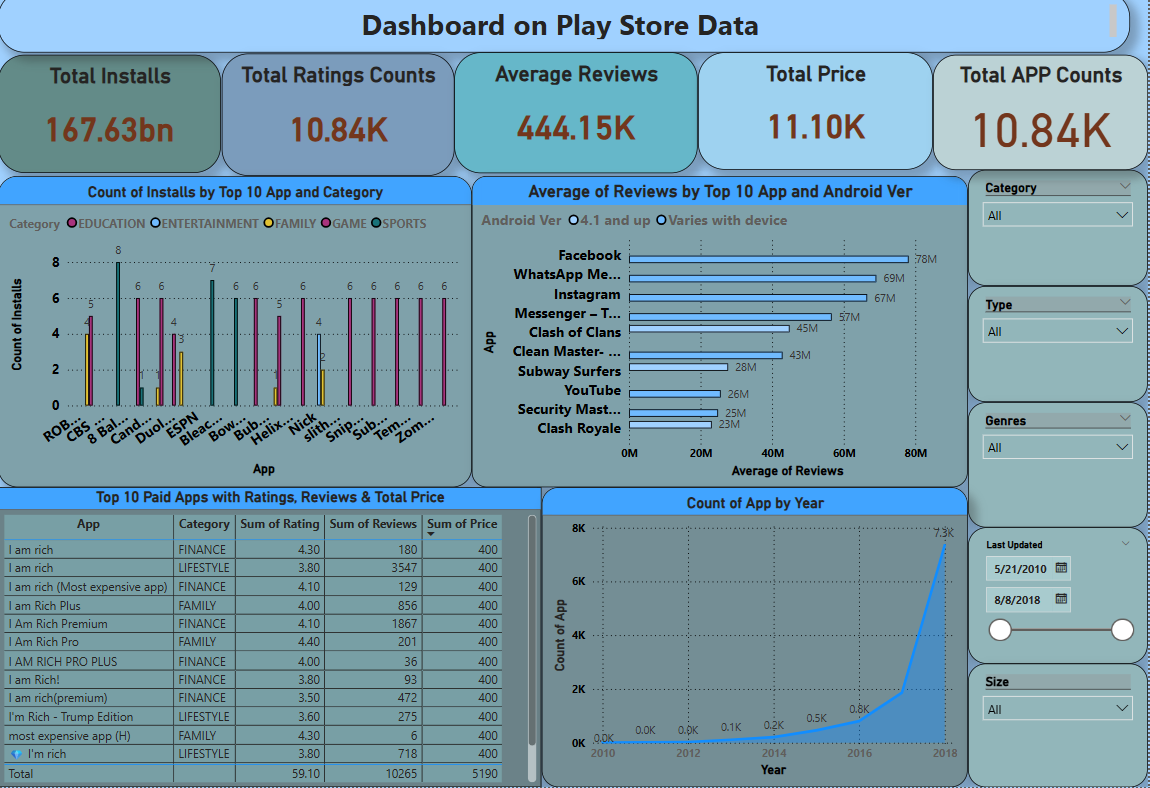

This screenshot's page, from the dashboard's own definition file:
{"tool":"powerbi","page":{"name":"Page 1","canvas":[1300,900],"ordinal":0},"visuals":[{"type":"card","title":"Total Installs","fields":{"Values":["Play Store Data (1).Installs"]},"box":[0,72.1,252.3,133.7],"z":0},{"type":"textbox","box":[0,0,1280.2,69.8],"z":1000},{"type":"card","title":"Total Ratings Counts","fields":{"Values":["Play Store Data (1).Rating"]},"box":[253,70.7,262.9,138.5],"z":2000},{"type":"card","title":"Average Reviews","fields":{"Values":["Play Store Data (1).Reviews"]},"box":[515.9,69.3,275.6,137.1],"z":3000},{"type":"card","title":"Total Price","fields":{"Values":["Play Store Data (1).Price"]},"box":[791.5,69.3,265.7,132.9],"z":4000},{"type":"clusteredColumnChart","title":"Count of Installs by Top 10 App and Category","fields":{"Category":["Play Store Data (1).App"],"Y":["Play Store Data (1).Installs"],"Series":["Play Store Data (1).Category"]},"box":[0,209.2,535.6,351.9],"z":5000},{"type":"clusteredBarChart","title":"Average of Reviews by Top 10 App and Android Ver","fields":{"Category":["Play Store Data (1).App"],"Y":["Play Store Data (1).Reviews"],"Series":["Play Store Data (1).Android Ver"]},"box":[535.6,209.2,561.1,351.9],"z":6000},{"type":"slicer","fields":{"Values":["Play Store Data (1).Category"]},"box":[1096.7,202.1,203.5,131.4],"z":7000},{"type":"slicer","fields":{"Values":["Play Store Data (1).Type"]},"box":[1096.7,333.5,203.5,131.4],"z":8000},{"type":"slicer","fields":{"Values":["Play Store Data (1).Genres"]},"box":[1096.7,465,203.5,141.3],"z":9000},{"type":"tableEx","title":"Top 10 Paid Apps with Ratings, Reviews & Total Price","fields":{"Values":["Play Store Data (1).App","Play Store Data (1).Category","Play Store Data (1).Rating","Play Store Data (1).Reviews","Play Store Data (1).Price"]},"box":[0,561.1,614.8,339.2],"z":10000},{"type":"lineChart","fields":{"Y":["Play Store Data (1).App"],"Category":["Play Store Data (1).Last Updated.Variation.Date Hierarchy.Year","Play Store Data (1).Last Updated.Variation.Date Hierarchy.Quarter","Play Store Data (1).Last Updated.Variation.Date Hierarchy.Month","Play Store Data (1).Last Updated.Variation.Date Hierarchy.Day"]},"box":[614.8,561.1,481.9,339.2],"z":11000},{"type":"slicer","fields":{"Values":["Play Store Data (1).Last Updated"]},"box":[1096.7,606.3,203.5,154.1],"z":12000},{"type":"card","title":"Total APP Counts","fields":{"Values":["Play Store Data (1).App"]},"box":[1057.2,72.1,243.1,130],"z":13000},{"type":"slicer","fields":{"Values":["Play Store Data (1).Size"]},"box":[1096.7,760.4,203.5,139.9],"z":14000}]}

Visuals, with their boxes in screenshot pixels (x1, y1, x2, y2), scaled from the page's 1300x900 canvas onto the 1150x788 screenshot:
"Total Installs" card: bbox=(0, 63, 223, 180)
textbox: bbox=(0, 0, 1132, 61)
"Total Ratings Counts" card: bbox=(224, 62, 456, 183)
"Average Reviews" card: bbox=(456, 61, 700, 181)
"Total Price" card: bbox=(700, 61, 935, 177)
"Count of Installs by Top 10 App and Category" clusteredColumnChart: bbox=(0, 183, 474, 491)
"Average of Reviews by Top 10 App and Android Ver" clusteredBarChart: bbox=(474, 183, 970, 491)
slicer - Play Store Data (1).Category: bbox=(970, 177, 1149, 292)
slicer - Play Store Data (1).Type: bbox=(970, 292, 1149, 407)
slicer - Play Store Data (1).Genres: bbox=(970, 407, 1149, 531)
"Top 10 Paid Apps with Ratings, Reviews & Total Price" tableEx: bbox=(0, 491, 544, 787)
lineChart - Play Store Data (1).App x Play Store Data (1).Last Updated.Variation.Date Hierarchy.Year: bbox=(544, 491, 970, 787)
slicer - Play Store Data (1).Last Updated: bbox=(970, 531, 1149, 666)
"Total APP Counts" card: bbox=(935, 63, 1149, 177)
slicer - Play Store Data (1).Size: bbox=(970, 666, 1149, 787)
